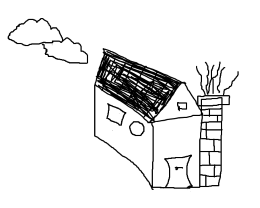clouds: (6, 16, 88, 65)
door: (161, 147, 194, 194)
open_window: (105, 102, 126, 127), (128, 120, 146, 136)
shaded_roof: (93, 48, 203, 122)
smoking_chimney: (192, 49, 244, 124)
wall: (147, 77, 203, 193)
